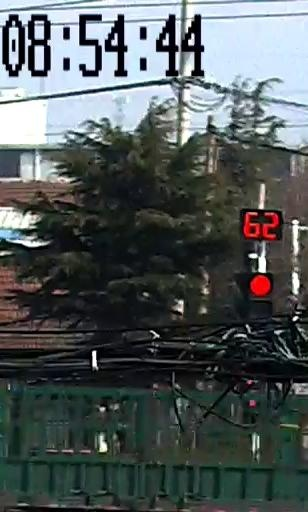red: (246, 273, 271, 298)
redpeople: (249, 394, 261, 412)
redtime: (242, 208, 284, 250)
